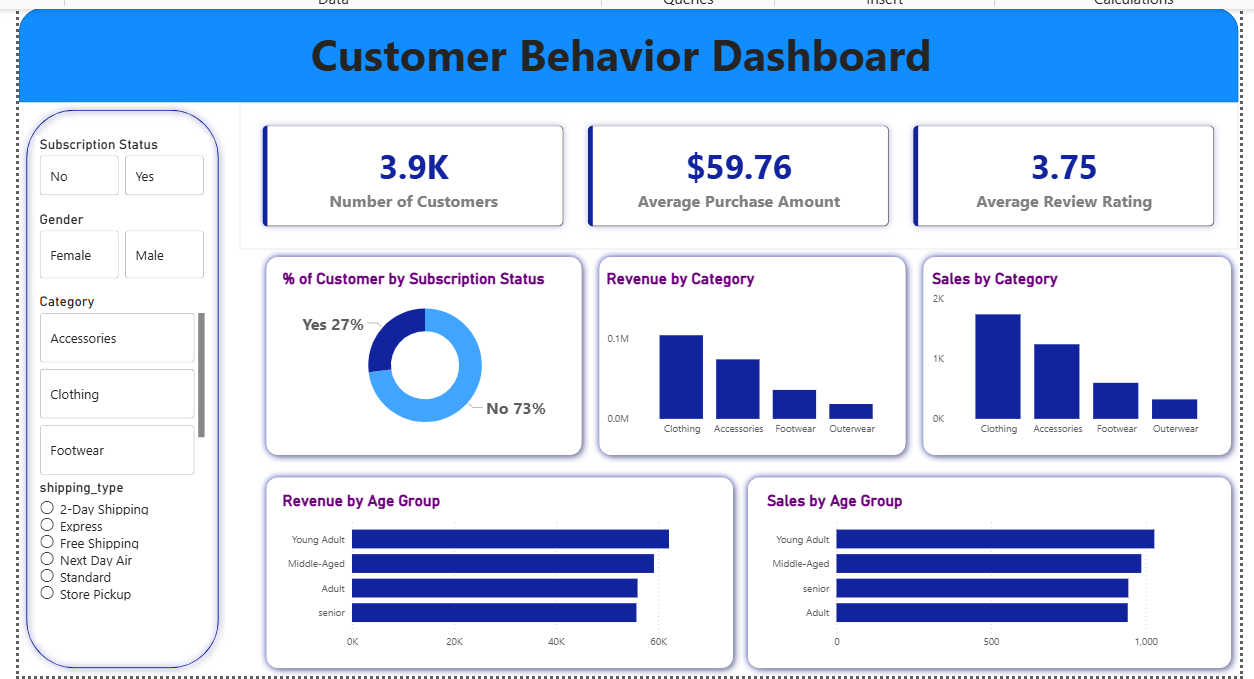

The page's visual inventory and layout, read from the dashboard file:
{"tool":"powerbi","page":{"name":"Customer_Behavior_Dashboard","canvas":[1500,820],"ordinal":0},"visuals":[{"type":"cardVisual","fields":{"Data":["Public customer.Number of Customers","Public customer.Average Purchase Amount","Public customer.Average Review Rating"]},"box":[271.1,116.2,1228.2,180.7],"z":0},{"type":"shape","box":[0,0,1499.3,116.2],"z":1000},{"type":"textbox","box":[0,14.8,1480.8,101.4],"z":2000},{"type":"shape","box":[295.1,296.9,405.7,261.9],"z":3000},{"type":"donutChart","title":"% of Customer by Subscription Status","fields":{"Category":["Public customer.subscription_status"],"Y":["CountNonNull(Public customer.customer_id)"]},"box":[319,320.9,359.6,213.9],"z":4000},{"type":"shape","box":[704.5,296.9,394.6,261.9],"z":5000},{"type":"shape","box":[1102.8,296.9,396.5,261.9],"z":6000},{"type":"clusteredColumnChart","title":"Revenue by Category","fields":{"Y":["Sum(Public customer.purchase_amount)"],"Category":["Public customer.category"]},"box":[717.4,320.9,367,213.9],"z":7000},{"type":"clusteredColumnChart","title":"Sales by Category","fields":{"Y":["CountNonNull(Public customer.customer_id)"],"Category":["Public customer.category"]},"box":[1117.5,320.9,367,213.9],"z":8000},{"type":"shape","box":[0,116.2,254.5,704.5],"z":9000},{"type":"advancedSlicerVisual","fields":{"Values":["Public customer.subscription_status"]},"box":[20.3,156.8,213.9,79.3],"z":10000},{"type":"advancedSlicerVisual","fields":{"Values":["Public customer.gender"]},"box":[20.3,249,213.9,88.5],"z":10001},{"type":"advancedSlicerVisual","fields":{"Values":["Public customer.category"]},"box":[20.3,350.4,213.9,228.7],"z":10002},{"type":"listSlicer","fields":{"Values":["Public customer.shipping_type"]},"box":[20.3,579.1,213.9,201],"z":10003},{"type":"shape","box":[295.1,568,592,252.6],"z":10006},{"type":"clusteredBarChart","title":"Revenue by Age Group","fields":{"Y":["Sum(Public customer.purchase_amount)"],"Category":["Public customer.age_group"]},"box":[319,593.8,544,202.9],"z":10007},{"type":"shape","box":[887,568,612.2,252.6],"z":10008},{"type":"clusteredBarChart","title":"Sales by Age Group","fields":{"Category":["Public customer.age_group"],"Y":["CountNonNull(Public customer.customer_id)"]},"box":[914.7,593.8,566.1,202.9],"z":10009}]}

Visuals, with their boxes in screenshot pixels (x1, y1, x2, y2):
cardVisual - Public customer.Number of Customers x Public customer.Average Purchase Amount: [235,101,1238,249]
shape: [13,7,1238,101]
textbox: [13,19,1223,101]
shape: [254,249,586,463]
"% of Customer by Subscription Status" donutChart: [274,269,567,443]
shape: [589,249,911,463]
shape: [914,249,1238,463]
"Revenue by Category" clusteredColumnChart: [599,269,899,443]
"Sales by Category" clusteredColumnChart: [926,269,1226,443]
shape: [13,101,221,677]
advancedSlicerVisual - Public customer.subscription_status: [30,135,204,199]
advancedSlicerVisual - Public customer.gender: [30,210,204,282]
advancedSlicerVisual - Public customer.category: [30,293,204,480]
listSlicer - Public customer.shipping_type: [30,480,204,644]
shape: [254,471,738,677]
"Revenue by Age Group" clusteredBarChart: [274,492,718,657]
shape: [738,471,1238,677]
"Sales by Age Group" clusteredBarChart: [760,492,1223,657]
